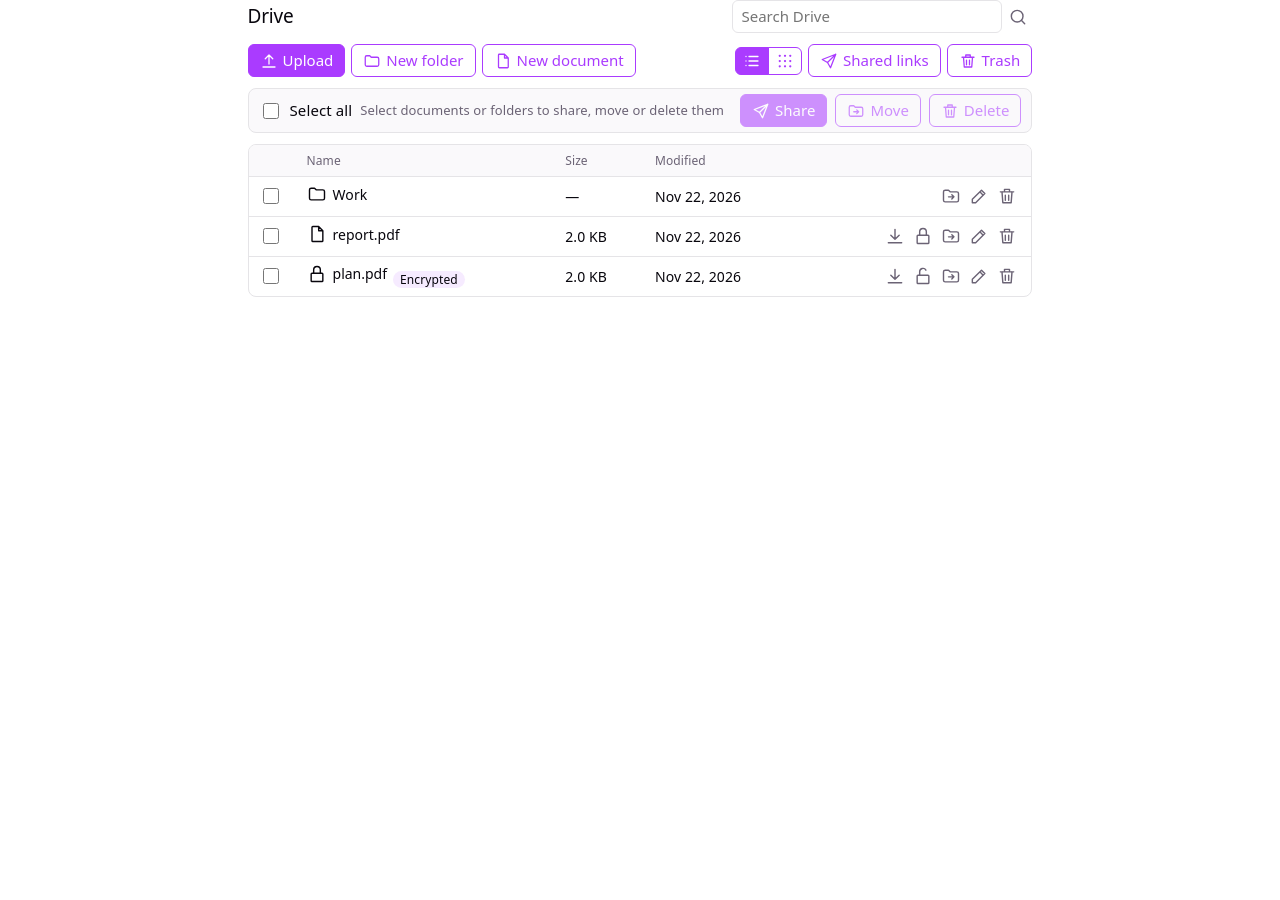
Scenario: FileBrowser (Drive): sharing › shares the selected documents with the selected friends
Expected: the button "Share" is disabled, [740,94,827,127]
Step 1. Click the checkbox named "Select report.pdf" → (270, 236), box [262,228,278,244]
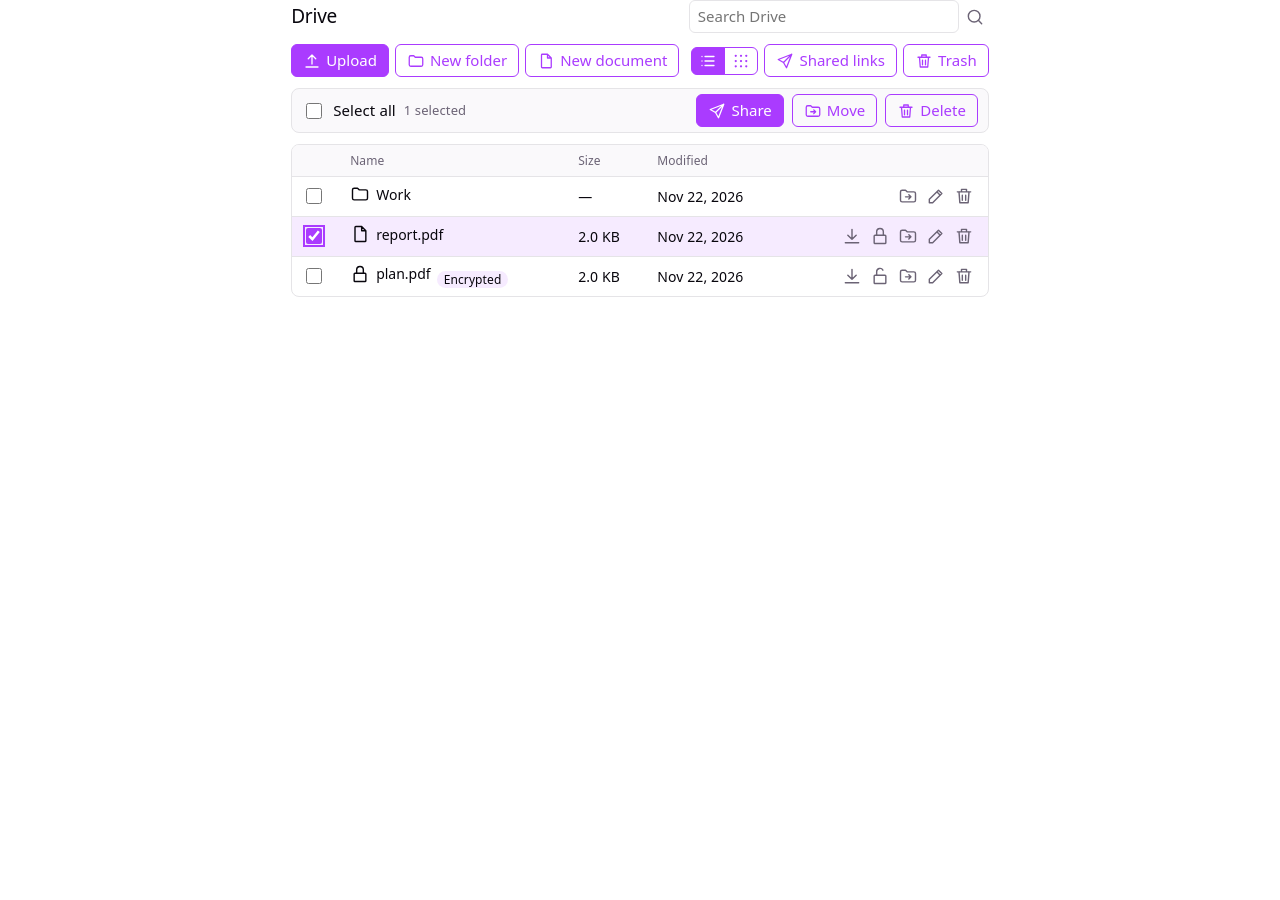
Step 2. Click the checkbox named "Select plan.pdf" → (314, 276), box [306,268,322,284]
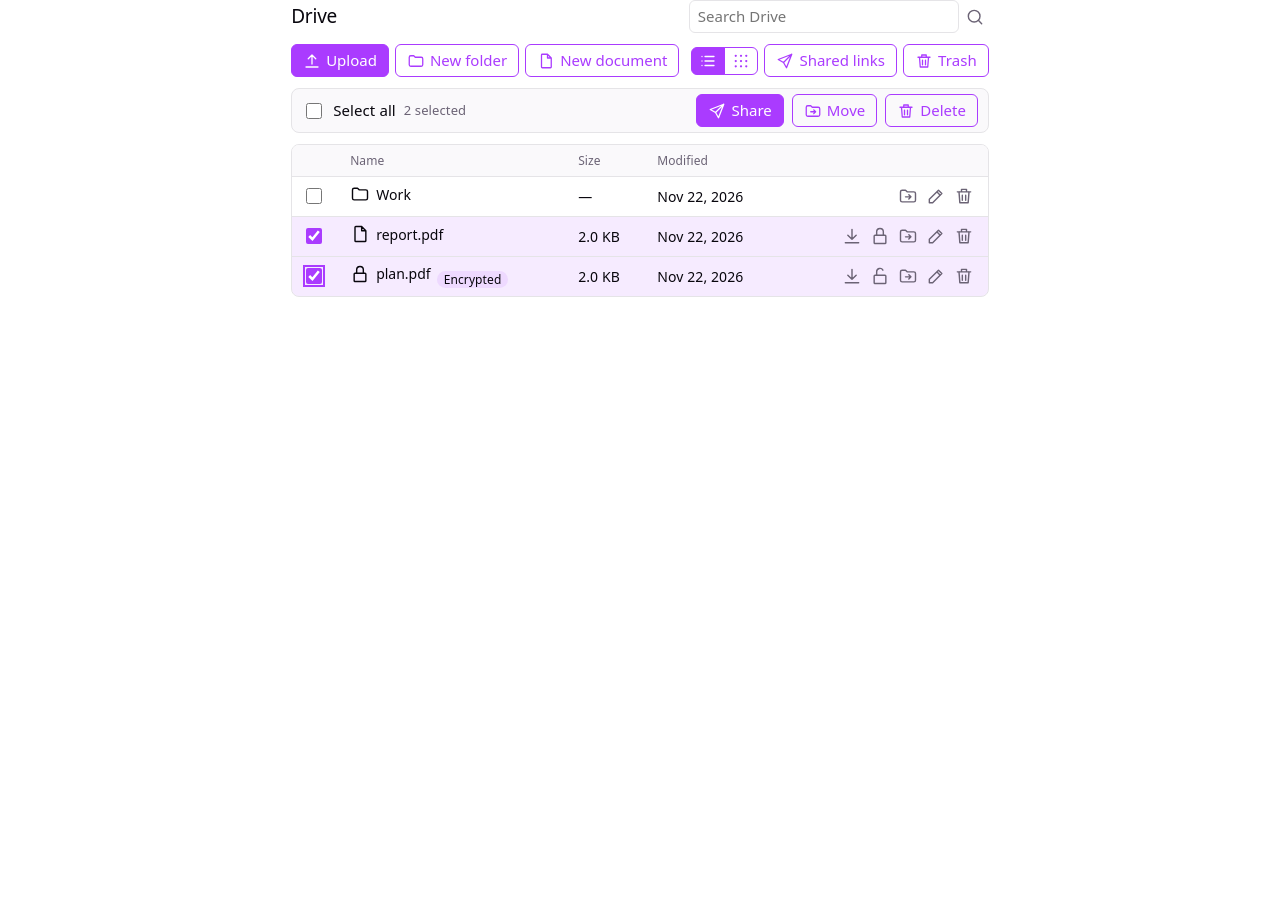
Expected: the text "2 selected" is shown, [404,100,466,121]
Step 3. Click the button "Share" → (740, 110), box [696,94,784,127]
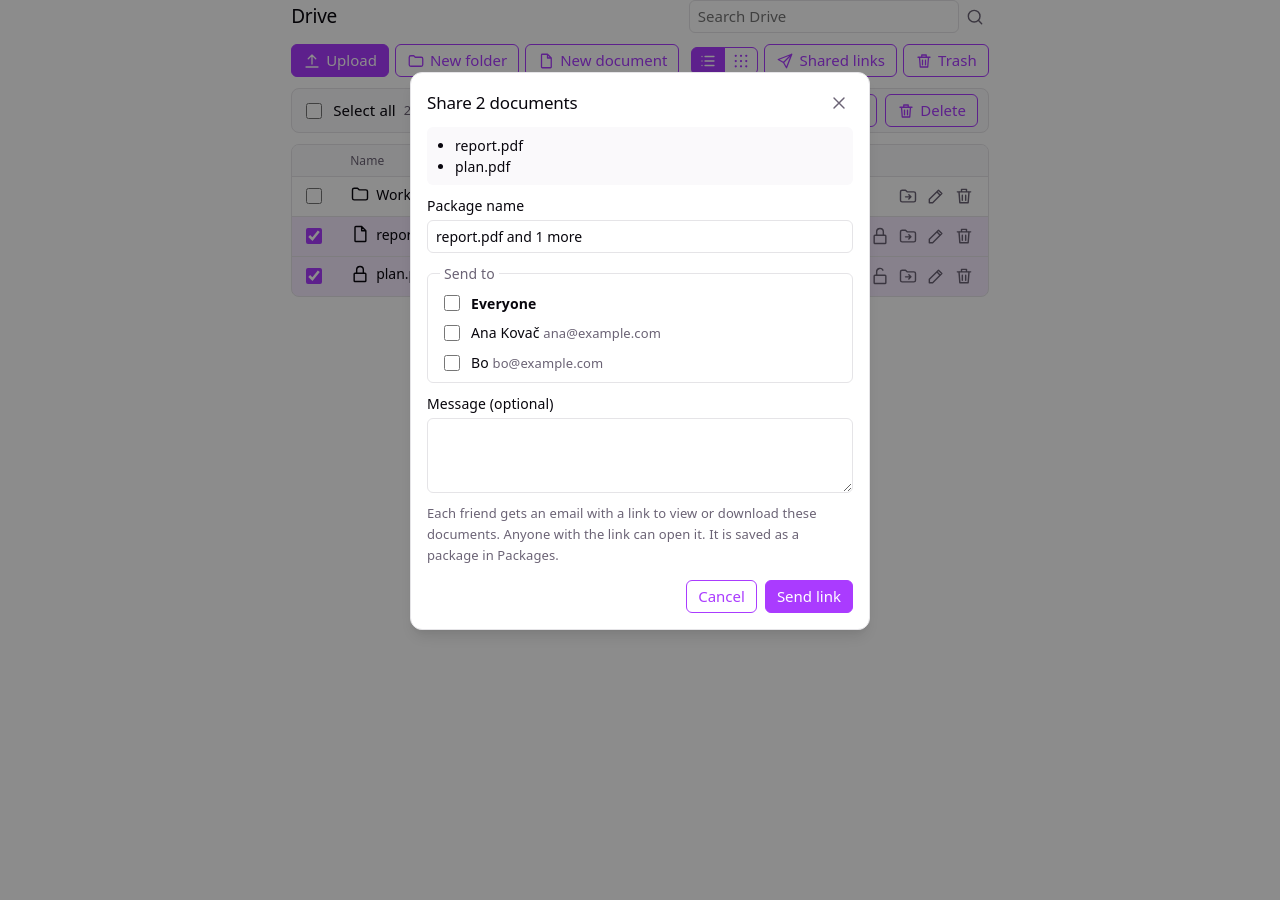
Step 4. Click the checkbox labelled "Ana Kovač ana@example.com" → (452, 333), box [444,325,460,341]
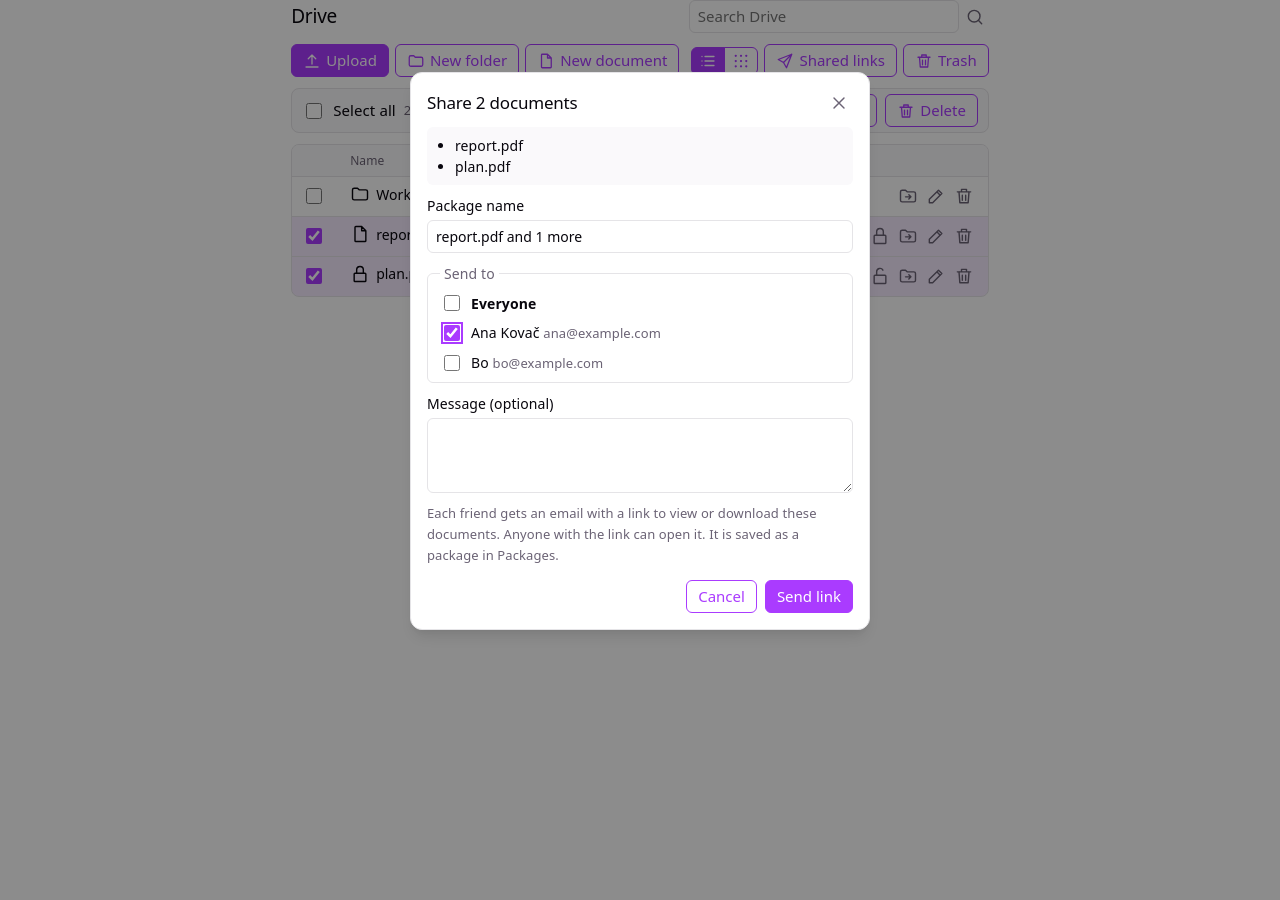
Step 5. Type "For Monday" into the text box labelled "Message (optional)" → (640, 456), box [427,418,853,493]
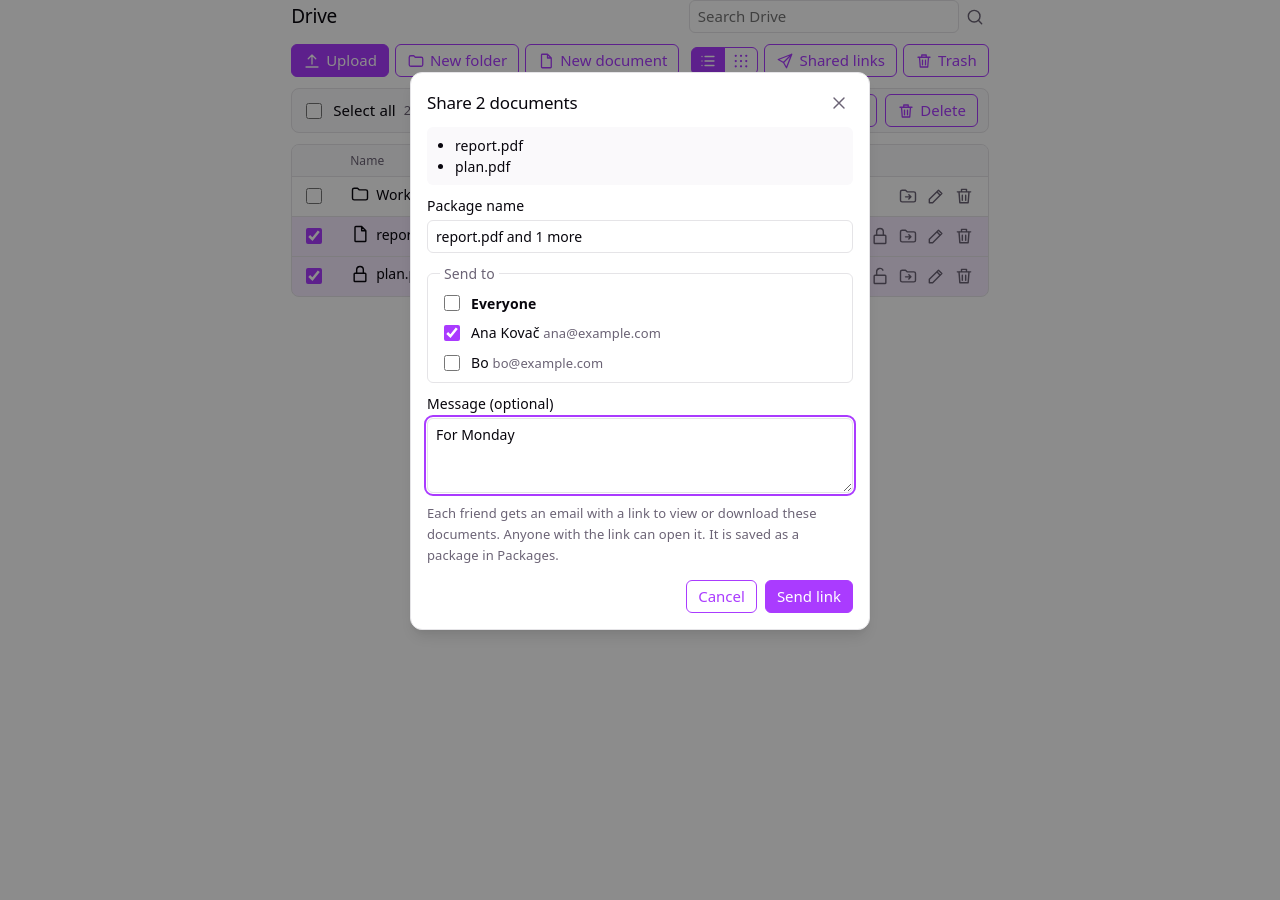
Step 6. Click the button "Send link" → (809, 596), box [765,580,853,613]
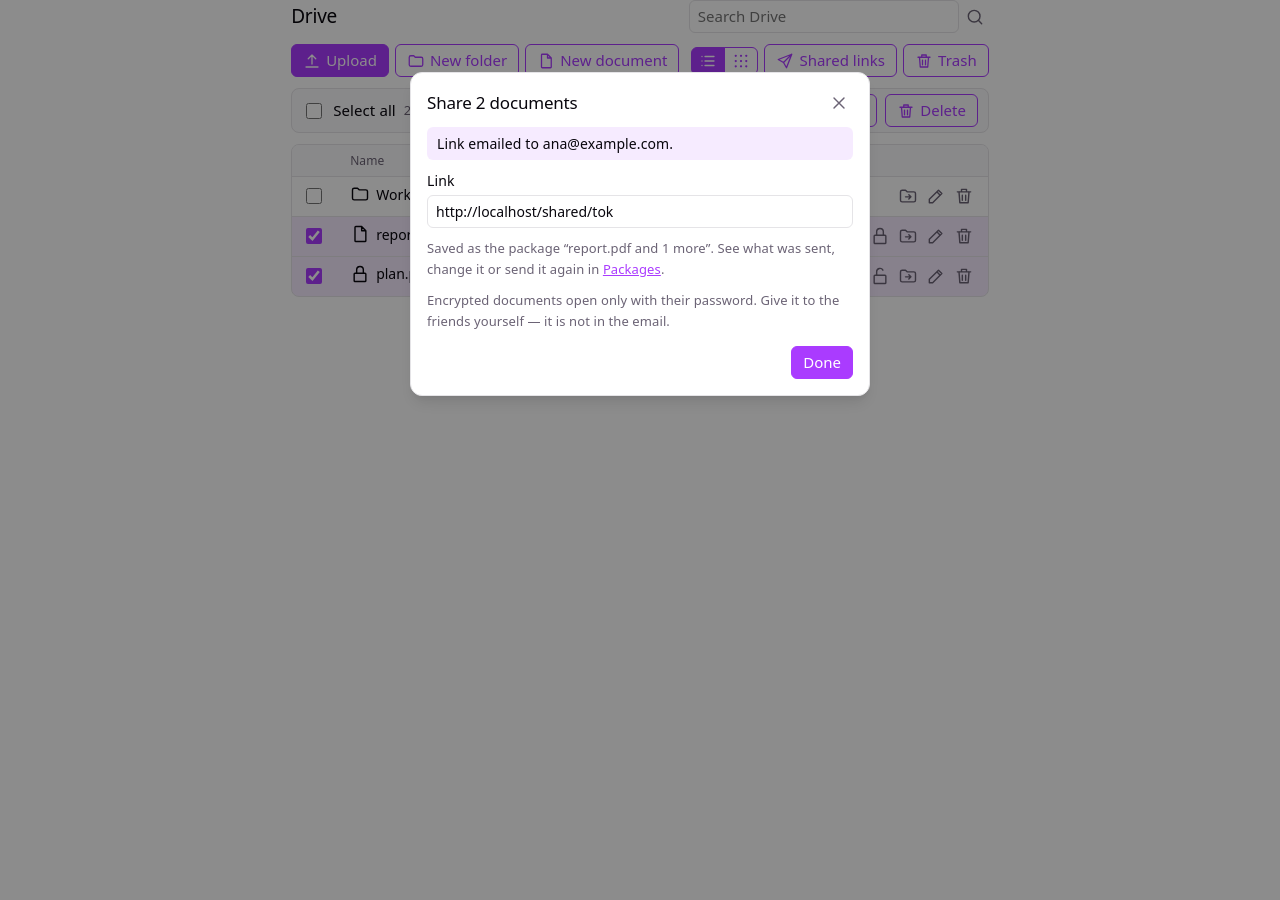
Expected: the message shows "ana@example.com", [543,134,669,153]
Expected: the field labelled "Link" holds "http://localhost/shared/tok", [427,195,853,228]
Expected: the text "Encrypted documents open only with their password" is shown, [427,291,839,330]
